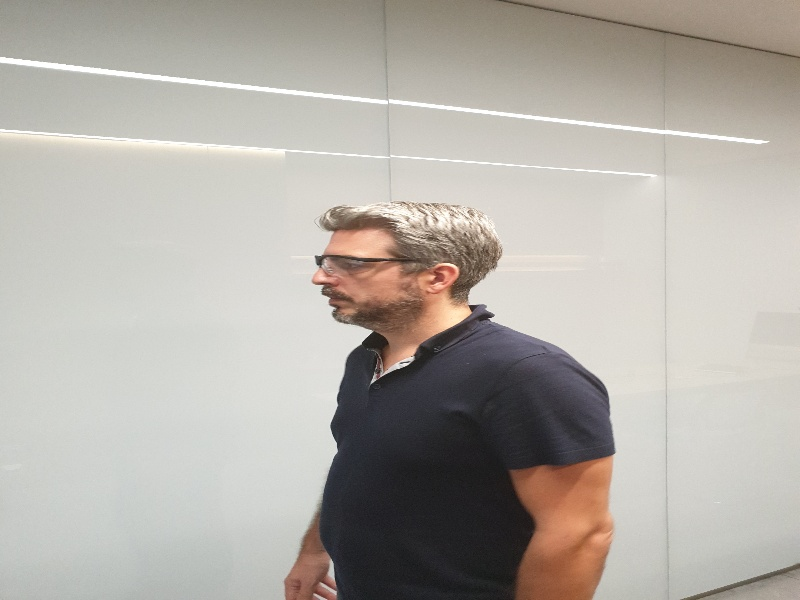Gozluk: (314, 255, 425, 276)
